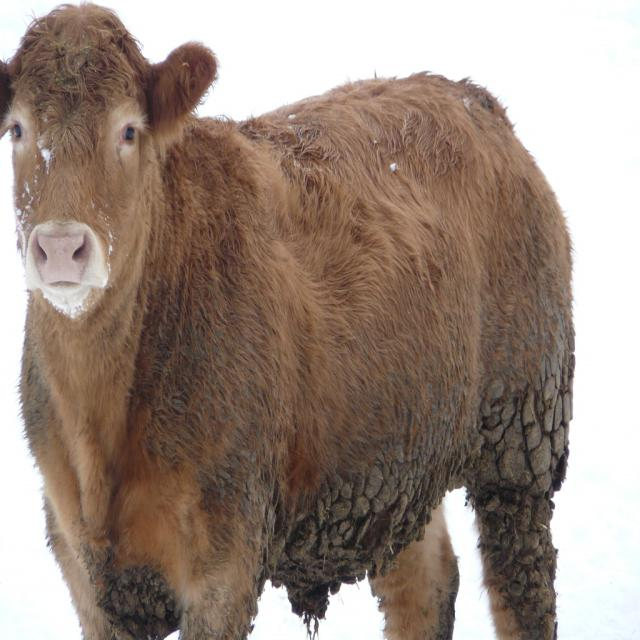Cattle: (0, 2, 576, 640)
